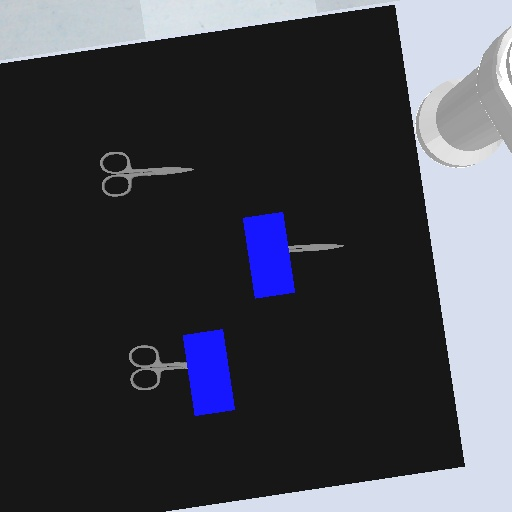tijera: (97, 147, 197, 201), (126, 342, 189, 393), (287, 240, 347, 256)
